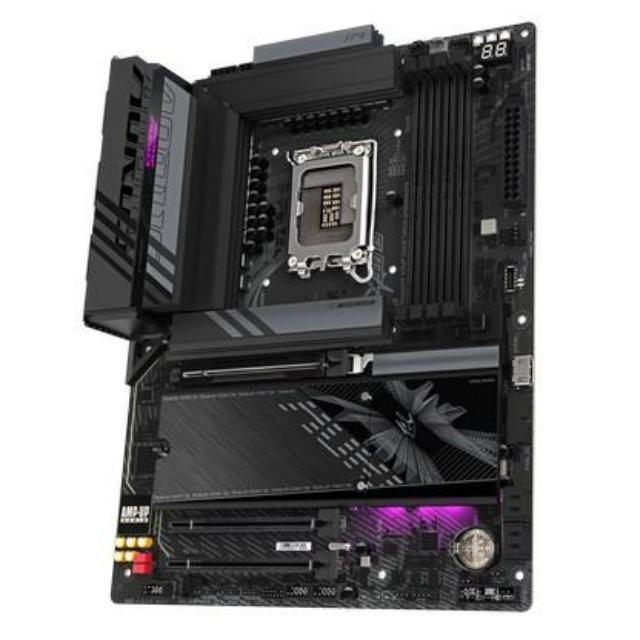Mainboard: (76, 22, 544, 618)
